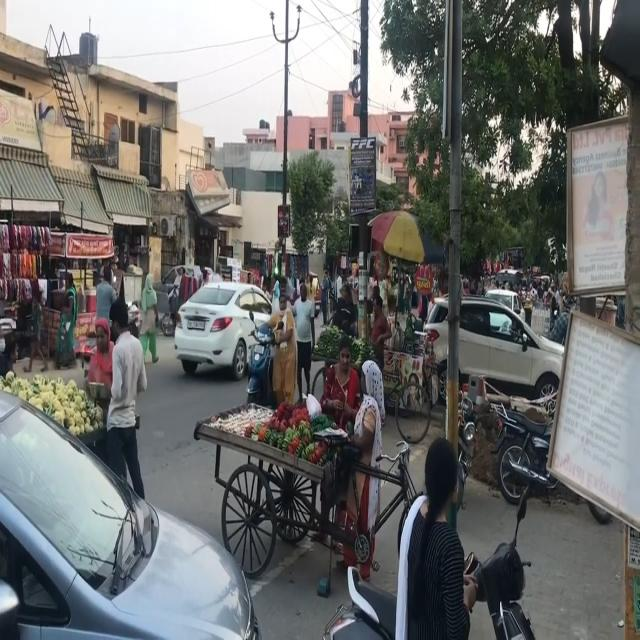Scooty: (241, 307, 290, 403)
